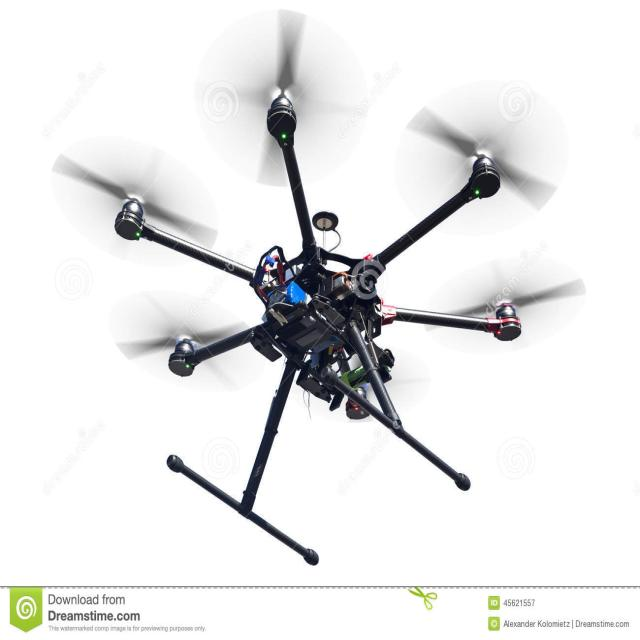drone: (59, 43, 566, 570)
